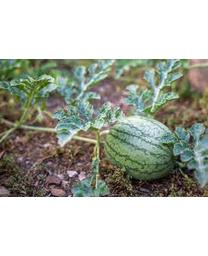watermelon: (105, 116, 178, 180)
